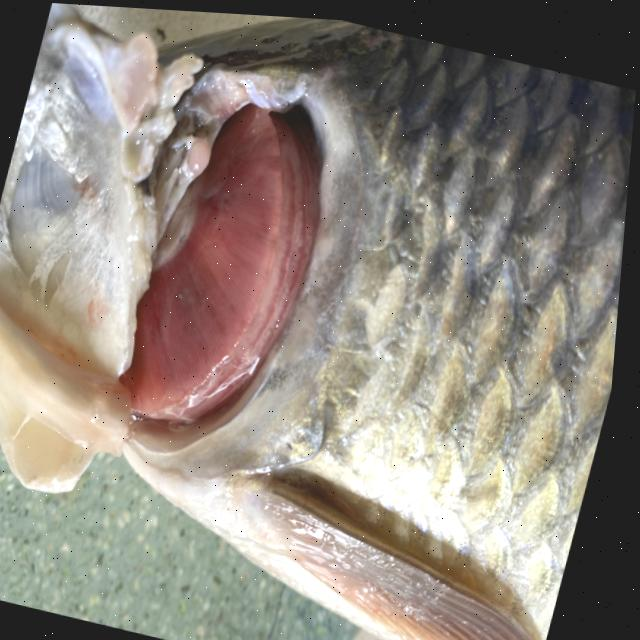Fresh: (117, 36, 372, 463)
